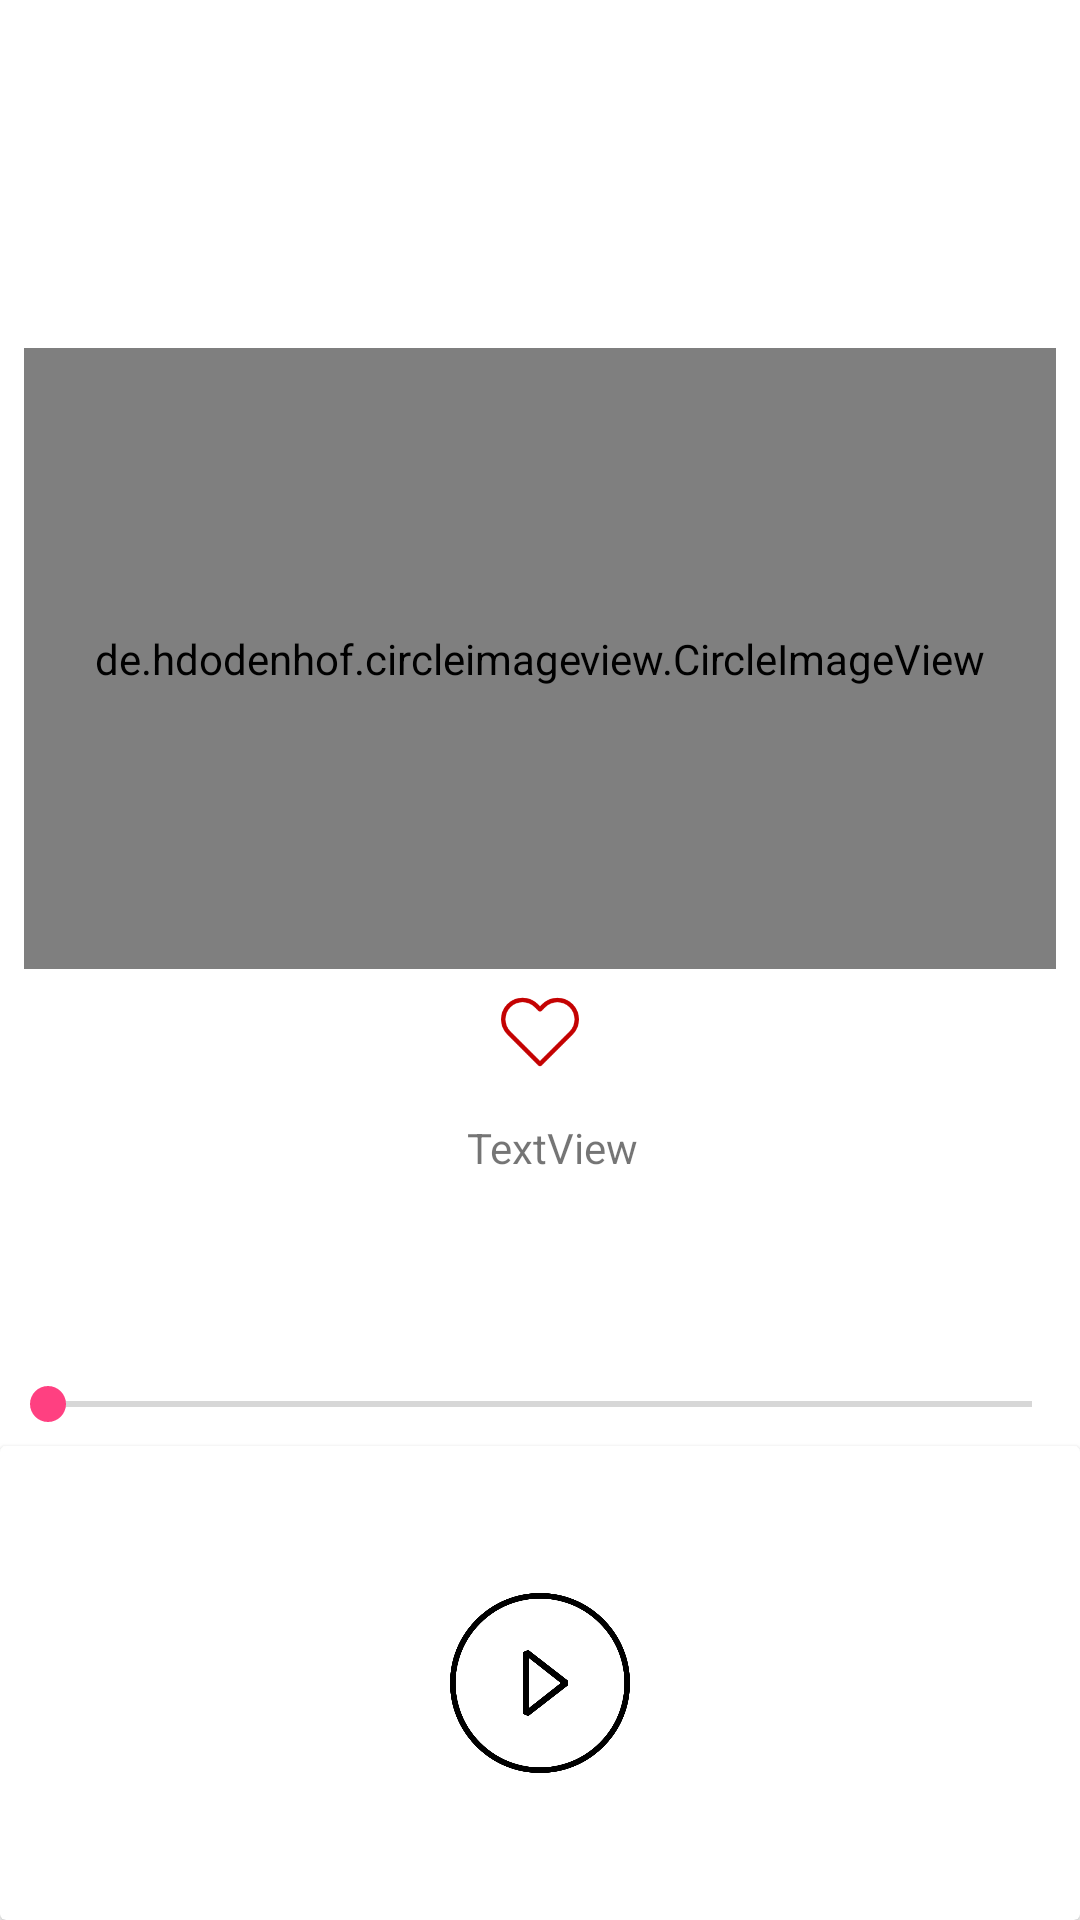

Where icons sit on this 1080px x 1920px app screen, as [x1, y1, x2, y2]:
heart: [501, 997, 579, 1067]
play: [450, 1593, 630, 1773]
